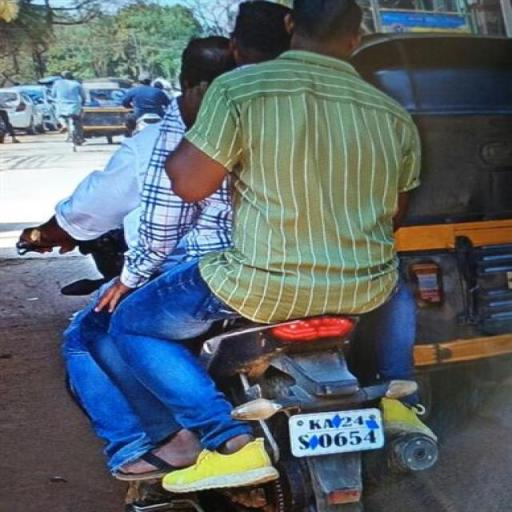tripple riding: (14, 2, 438, 312)
